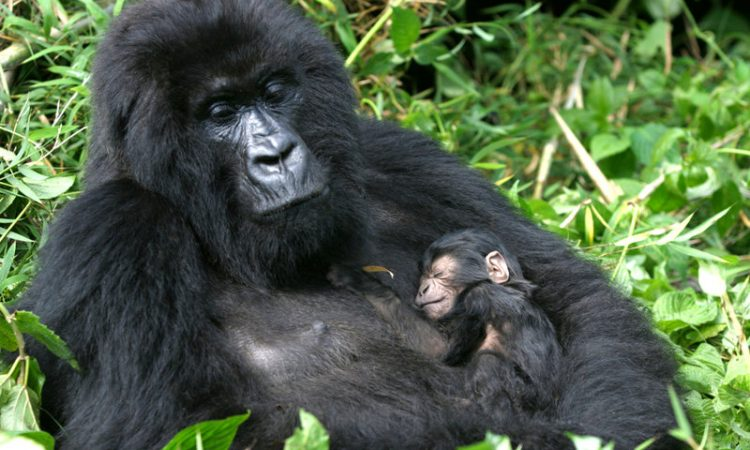Goriila: (51, 2, 407, 446), (410, 220, 568, 433)
